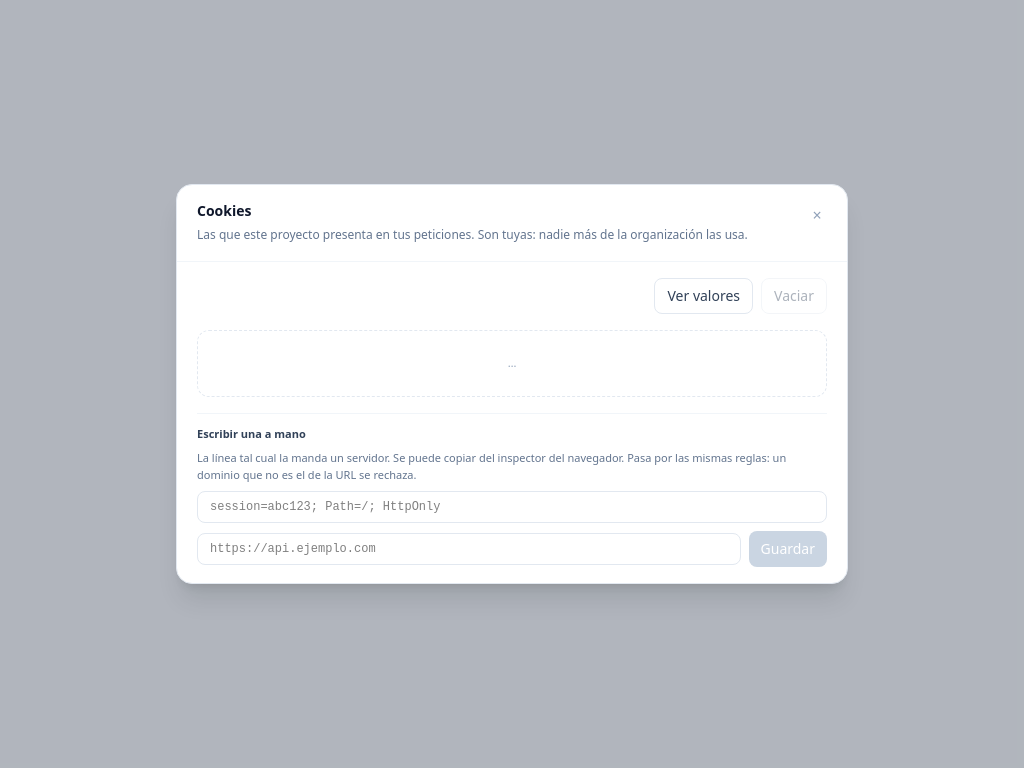
Test: el gestor del tarro: el resto › escribir una para otra URL la manda con esa URL y la línea se vacía
expect the field with placeholder "https://api.ejemplo.com" is shown: met, box [197,533,740,565]
Type "manual=1" into the field named "Set-Cookie" at (512, 507), box [197,491,827,523]
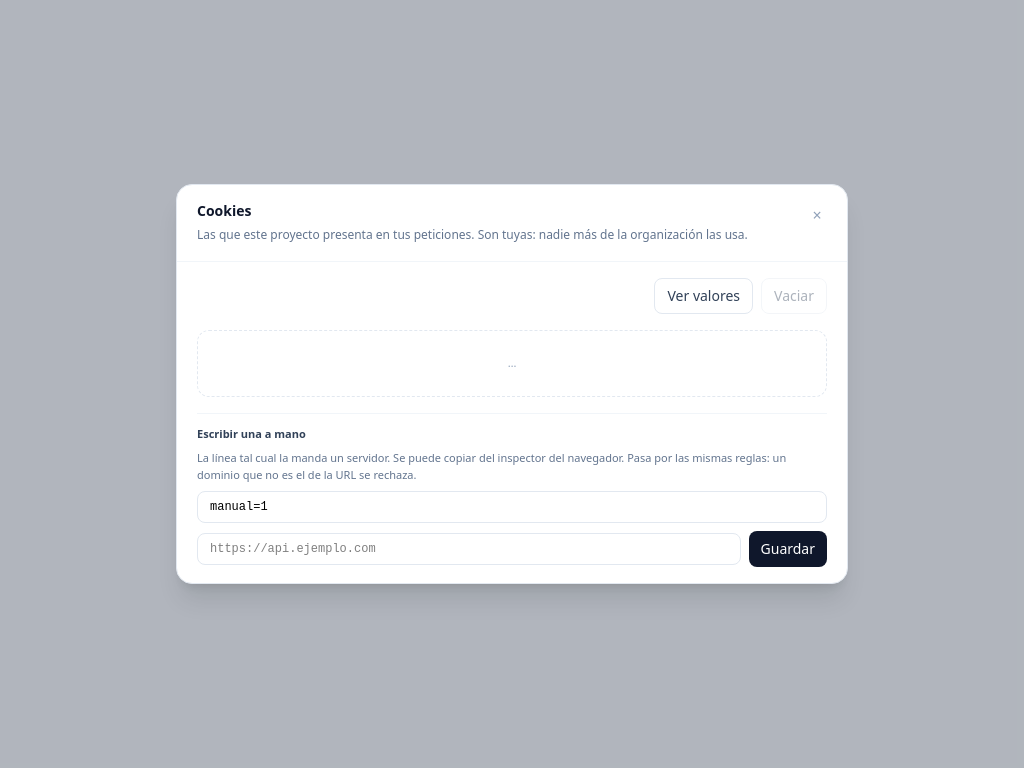
Type "https://otra.com" into the field named "URL para la que vale" at (469, 549), box [197,533,740,565]
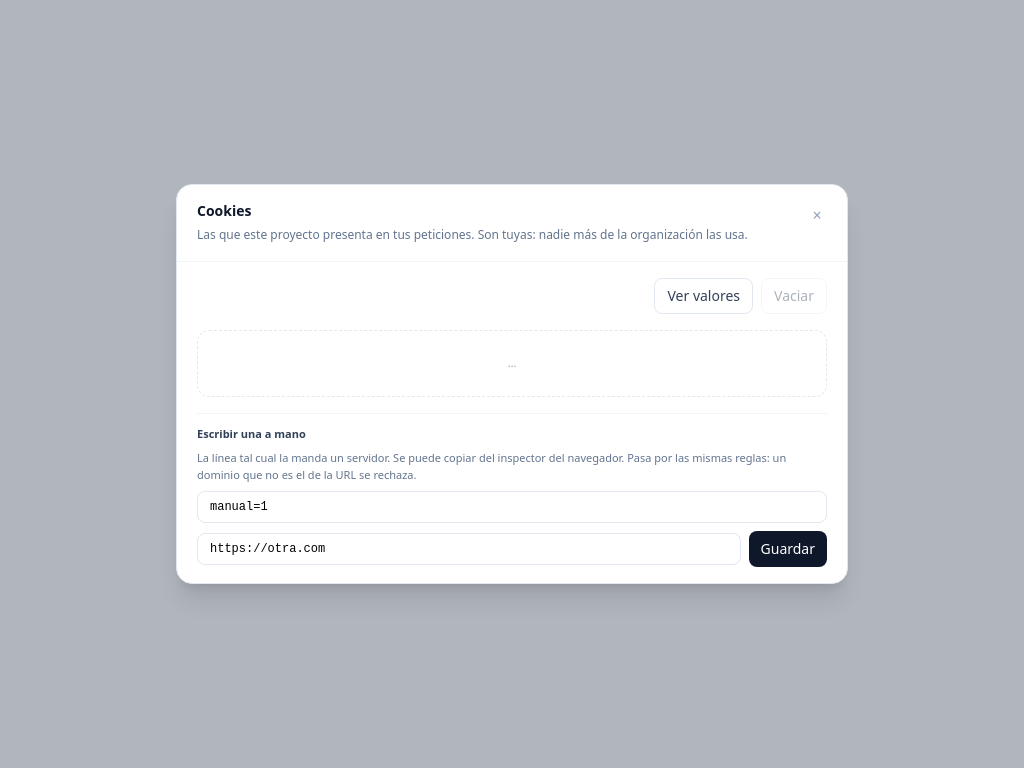
Click the button "Guardar" at (788, 549), box [748,531,827,567]
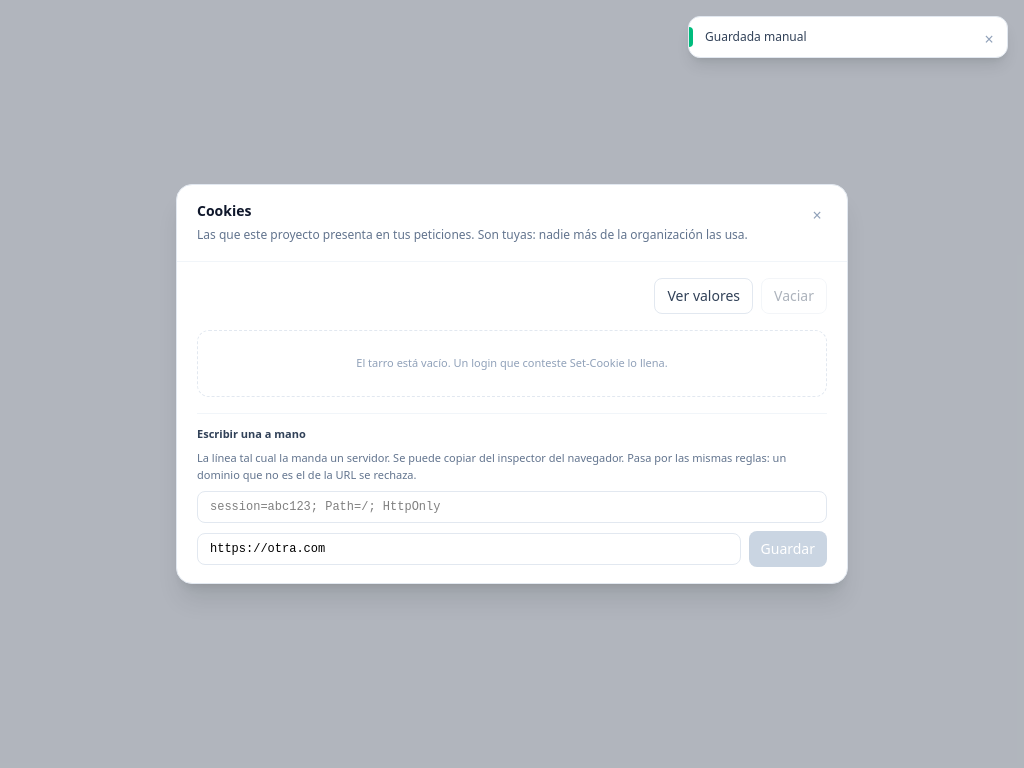
expect the text "Guardada manual" is shown: met, box [705,28,807,45]
expect the field named "Set-Cookie" is empty: met, box [197,491,827,523]
